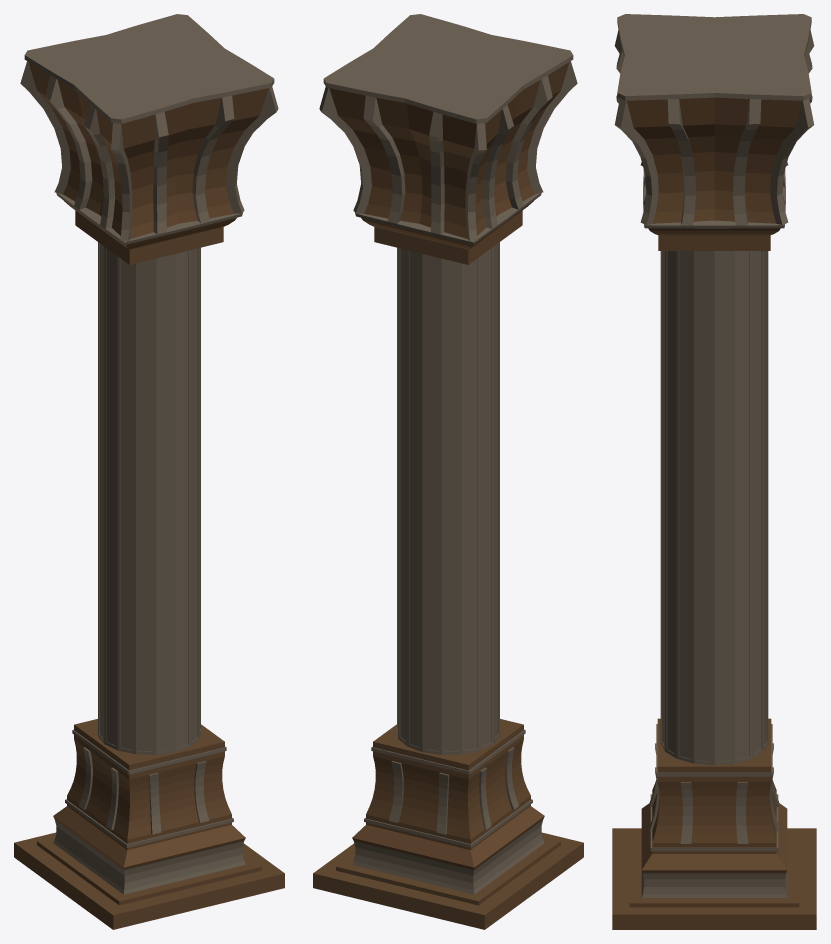
The model's file is PillarBig.fbx.
3 renders of one model, left to right at view 1: azimuth 30°, elevation 25°; view 2: azimuth 150°, elevation 25°; view 3: azimuth 270°, elevation 25°, orthographic. The views are drawn at different scales.
Visible parts, largest first — view 1: Cylinder, Cube, Cube.002; view 2: Cylinder, Cube, Cube.002; view 3: Cylinder, Cube, Cube.002.
Boxes of the visible parts, x1,y1,x2,y2 form: Cylinder: (98, 242, 200, 754); Cube: (20, 14, 278, 264); Cube.002: (14, 719, 284, 929); Cylinder: (397, 242, 499, 754); Cube: (319, 14, 577, 264); Cube.002: (313, 719, 583, 929); Cylinder: (660, 251, 768, 765); Cube: (614, 14, 814, 250); Cube.002: (612, 718, 816, 929).
Size of the model in its own units: 365 by 1635 by 365.
